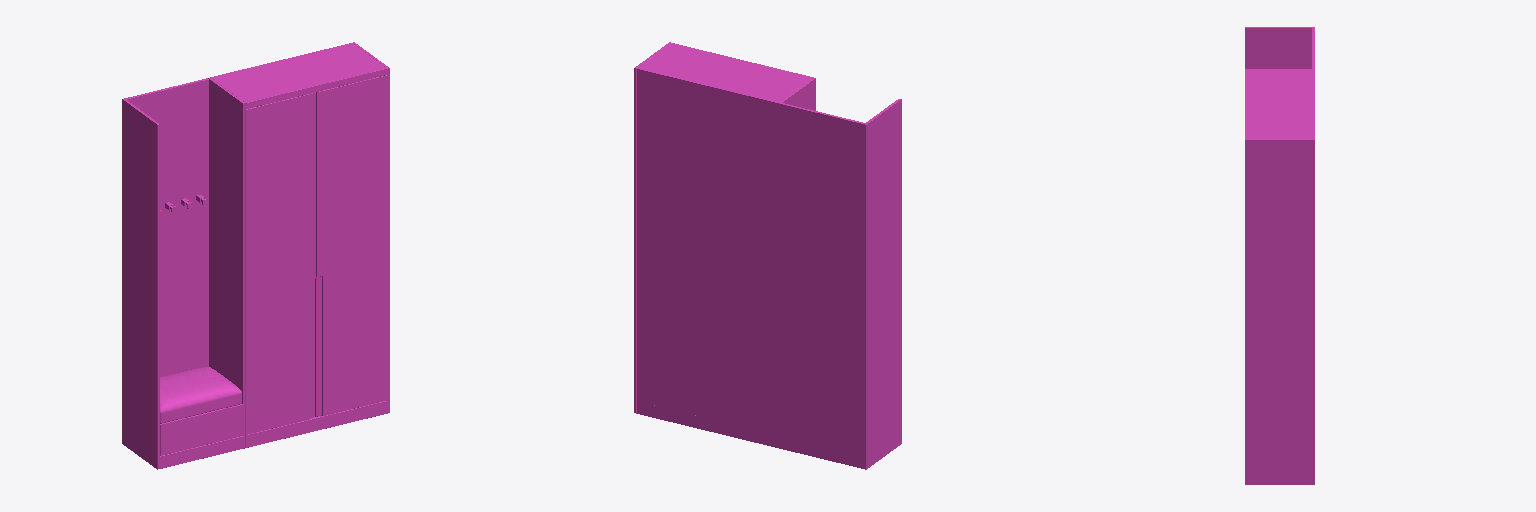
Rendered from Hkaf.obj.
3 renders of one model, left to right at view 1: azimuth 30°, elevation 25°; view 2: azimuth 150°, elevation 25°; view 3: azimuth 270°, elevation 25°, orthographic.
Parts seen in each view (by area): view 1: Hkaf; view 2: Hkaf; view 3: Hkaf.
Boxes of the visible parts, x1=… form: Hkaf: x1=122, y1=42, x2=389, y2=469; Hkaf: x1=634, y1=42, x2=901, y2=469; Hkaf: x1=1245, y1=27, x2=1314, y2=484.
Size of the model in its own units: 1902 by 2700 by 501.